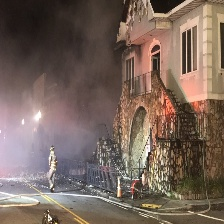smoke: (10, 4, 121, 155)
